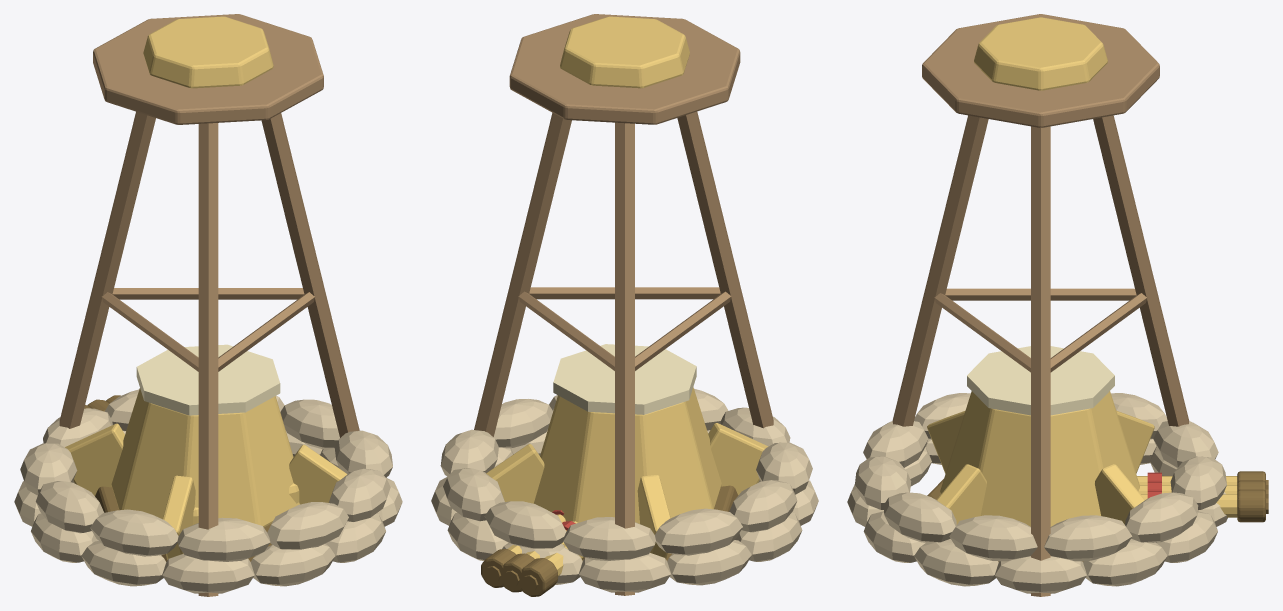
The model's file is turret_family.glb.
The picture shows the model from 3 angles, left to right: view 1: azimuth 30°, elevation 25°; view 2: azimuth 150°, elevation 25°; view 3: azimuth 270°, elevation 25°; orthographic projection.
Parts seen in each view (by area): view 1: Tripod, Sandbags, Base; view 2: Tripod, Sandbags, Base, BarrelL, BarrelR, Barrel; view 3: Tripod, Sandbags, Base, BarrelR, BarrelL, Barrel.
Boxes of the visible parts, box(x1,y1,x2,y2) form: Tripod: box(59, 14, 359, 596); Sandbags: box(14, 389, 402, 593); Base: box(65, 344, 347, 561); Tripod: box(474, 14, 773, 595); Sandbags: box(431, 388, 818, 592); Base: box(486, 344, 768, 560); BarrelL: box(519, 543, 585, 596); BarrelR: box(481, 510, 565, 587); Barrel: box(500, 521, 577, 592); Tripod: box(892, 14, 1189, 596); Sandbags: box(847, 393, 1227, 593); Base: box(927, 346, 1154, 561); BarrelR: box(1141, 489, 1268, 522); BarrelL: box(1137, 471, 1268, 488); Barrel: box(1138, 480, 1268, 497).
Bounding box in the file's own units: 1.36 × 1.87 × 1.48.
